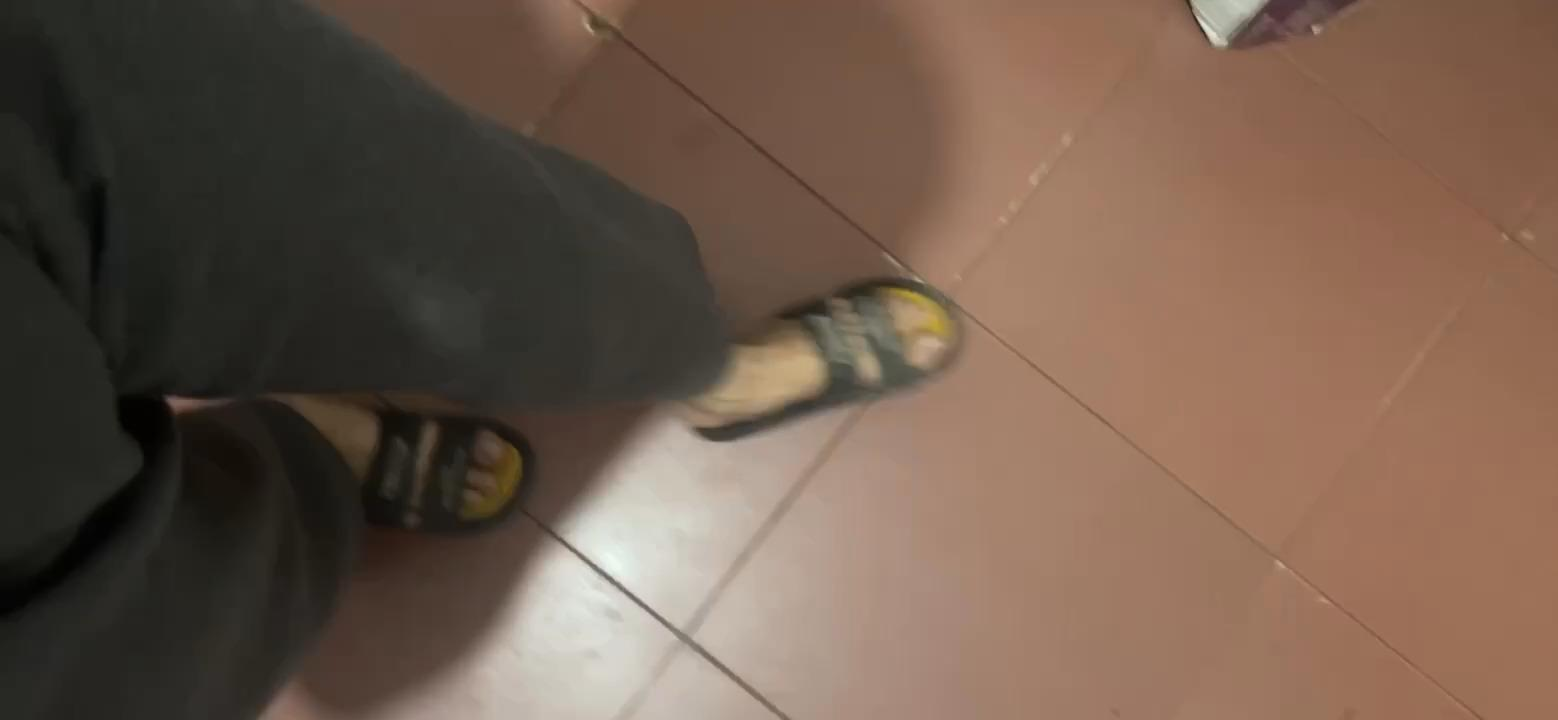no-boot: (671, 269, 963, 434), (263, 391, 542, 540)
